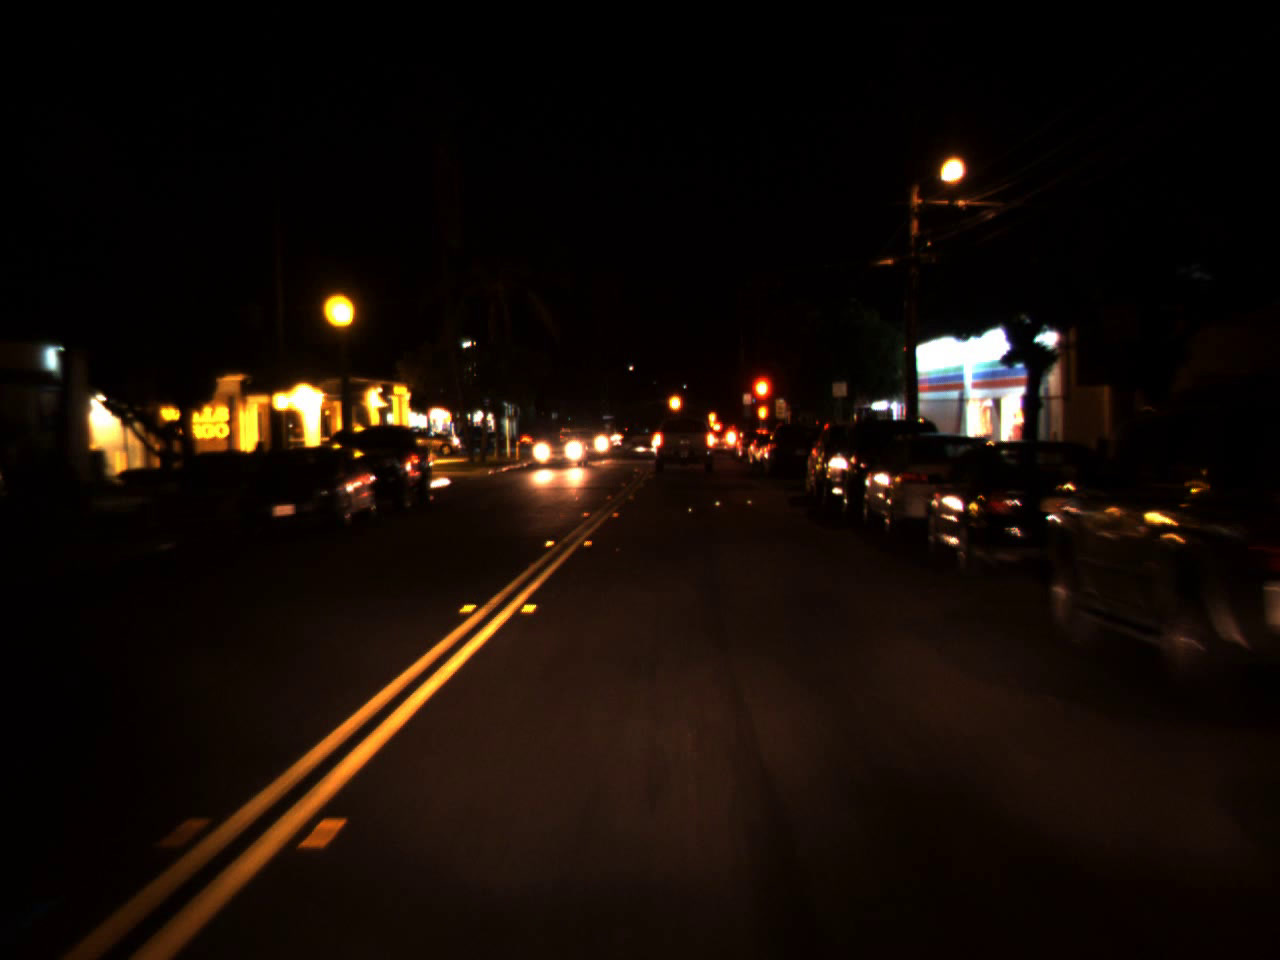stop: (748, 372, 773, 431)
warning: (666, 384, 684, 419), (705, 404, 718, 426)
